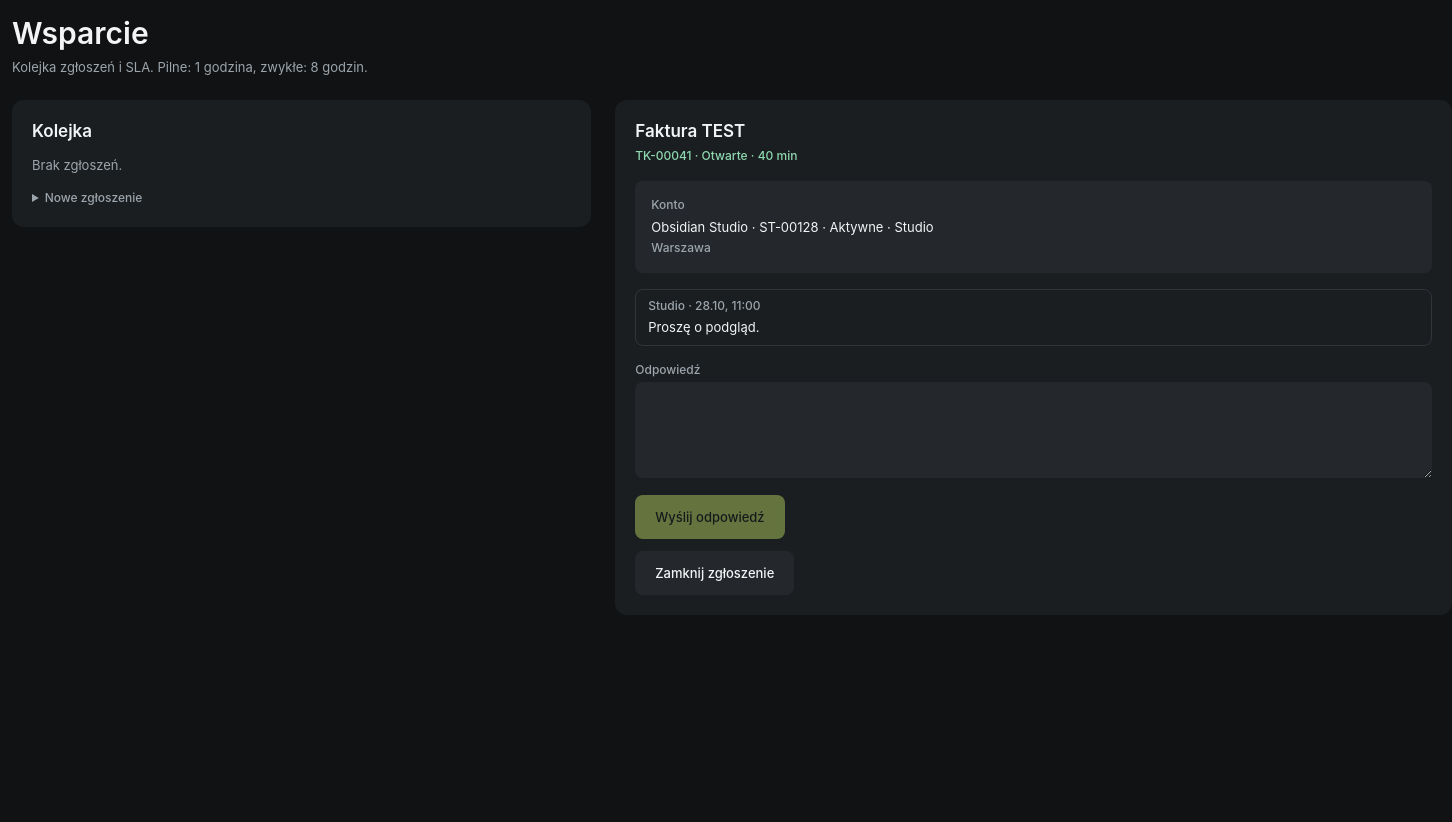
Test: nie wysyła pustej odpowiedzi
The image size is (1452, 822).
Check: the button "Wyślij odpowiedź" is disabled, box 635,495 -> 785,539
Type "Sprawdzamy." into the text box labelled "Odpowiedź" at point(1034, 430), box 635,382 -> 1432,478
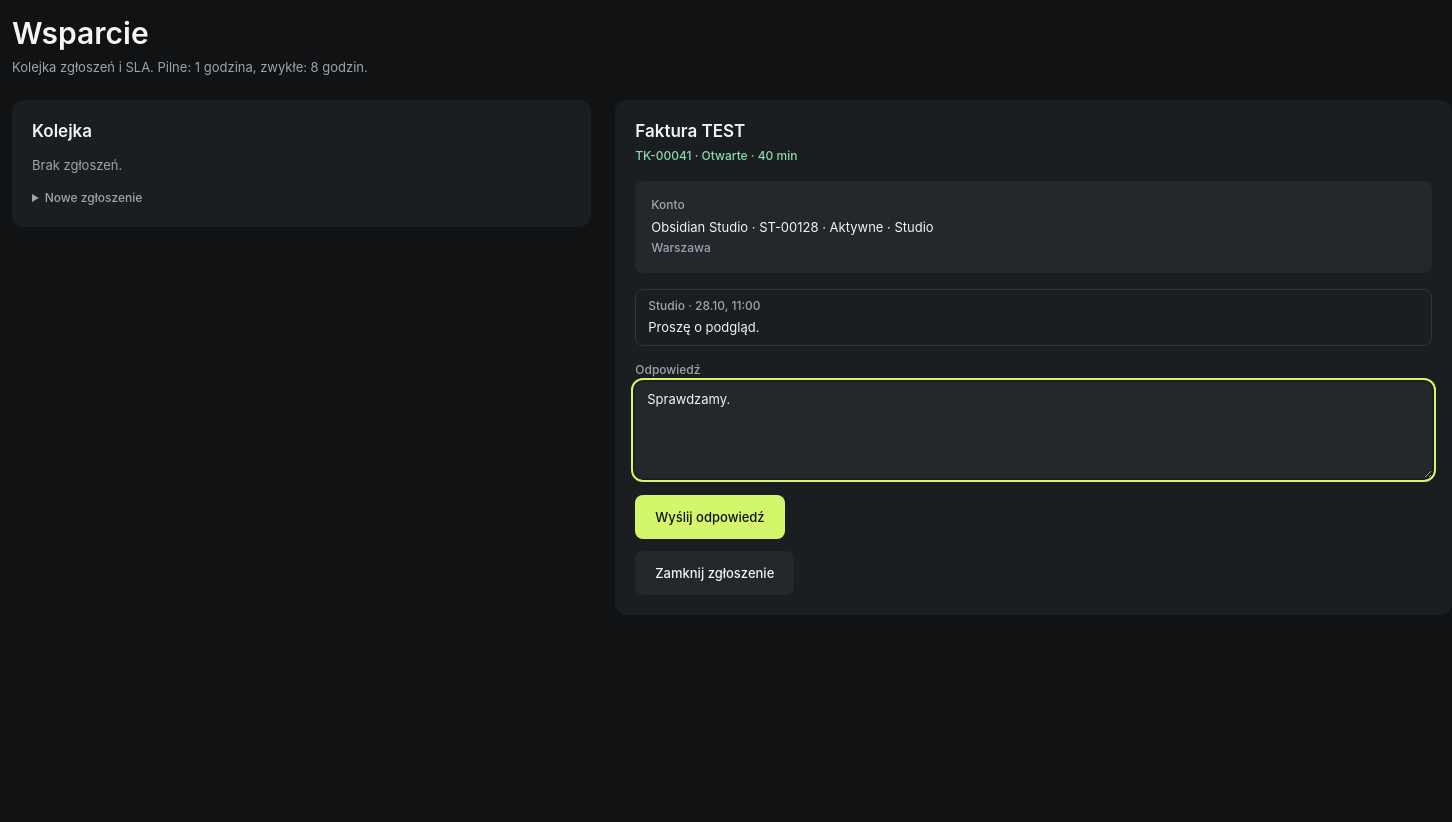
Check: the button "Wyślij odpowiedź" is enabled, box 635,495 -> 785,539
